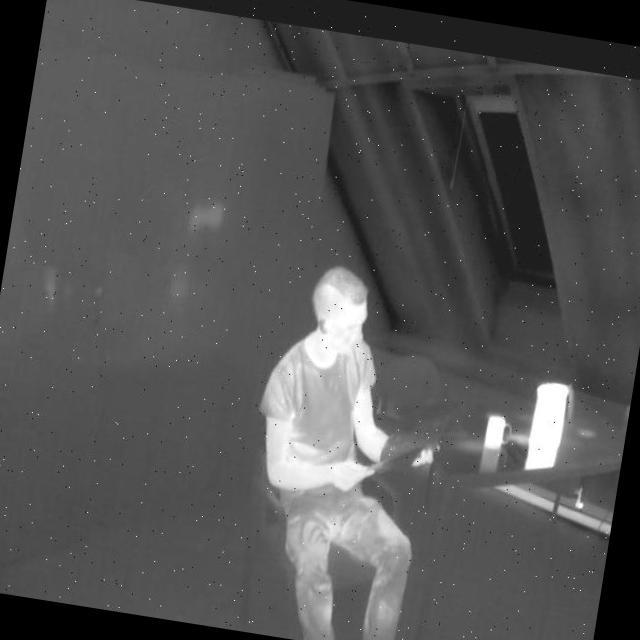person: (223, 253, 466, 640)
